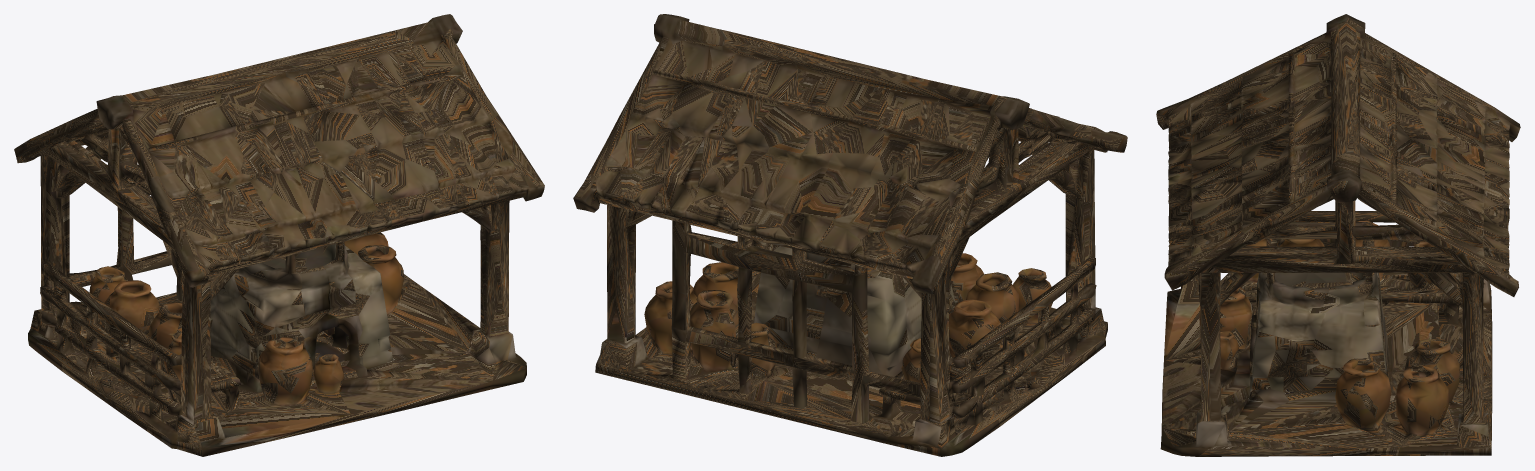
Rendered from bq_pottery.lod.glb.
The picture shows the model from 3 angles, left to right: view 1: azimuth 30°, elevation 25°; view 2: azimuth 150°, elevation 25°; view 3: azimuth 270°, elevation 25°; orthographic projection. The views are drawn at different scales.
Parts seen in each view (by area): view 1: mesh_node; view 2: mesh_node; view 3: mesh_node.
Part boxes in pixels (x1,y1,x2,y2): mesh_node: [14, 14, 544, 456]; mesh_node: [573, 14, 1127, 456]; mesh_node: [1156, 14, 1520, 456].
Bounding box in the file's own units: 1.9 × 1.47 × 1.71.
Materials: 1 (1 with a texture image).
